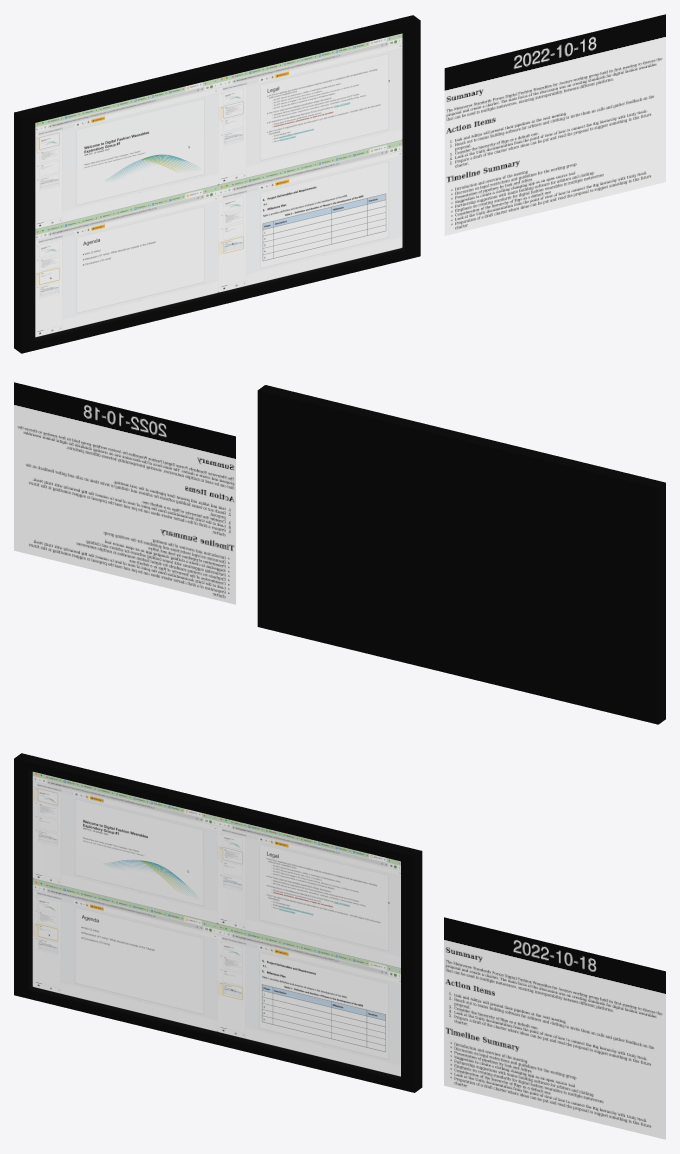
3 views of the same model, one above another, from view 1: azimuth 30°, elevation 25°; view 2: azimuth 150°, elevation 25°; view 3: azimuth 330°, elevation 25° (orthographic).
Parts seen in each view (by area): view 1: 2022-10-18; view 2: 2022-10-18; view 3: 2022-10-18.
Part boxes in pixels (bbox=[...]): 2022-10-18: bbox=[14, 14, 665, 353]; 2022-10-18: bbox=[14, 382, 665, 724]; 2022-10-18: bbox=[14, 753, 665, 1139].
Size of the model in its own units: 3.32 by 1.15 by 0.0666.
Materials: 3 (2 with a texture image).
